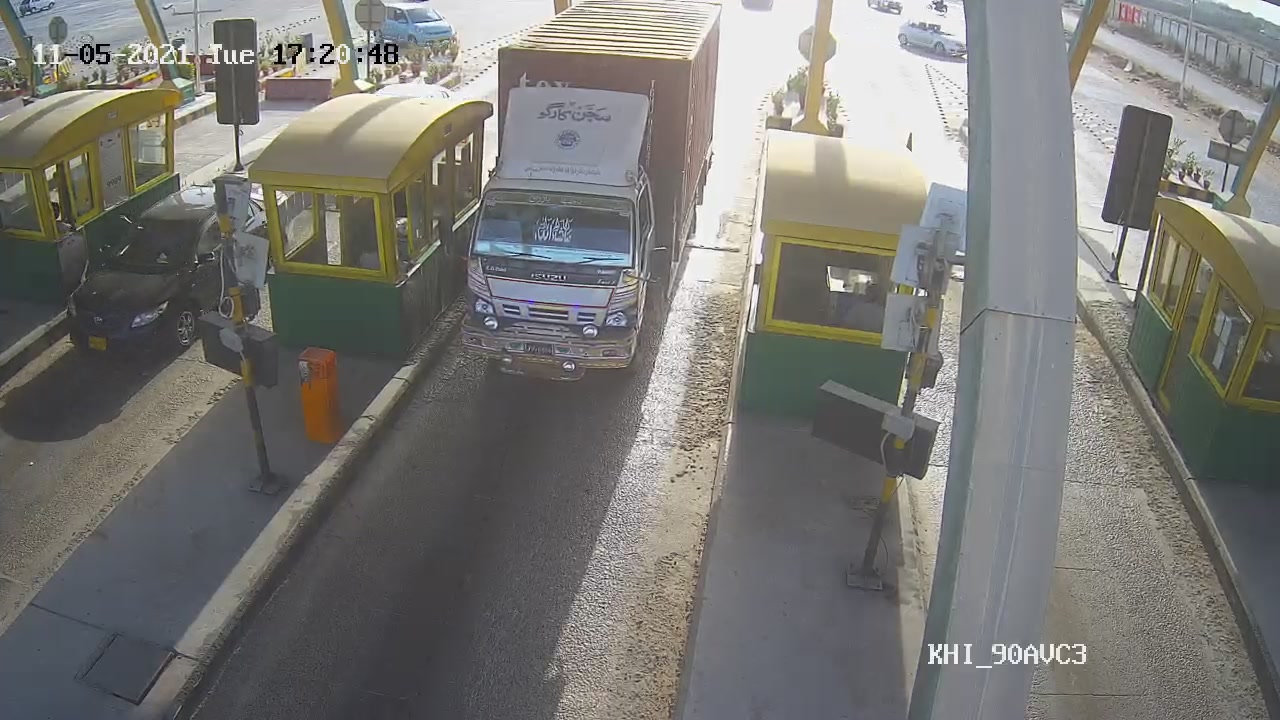F6: (454, 3, 725, 383)
